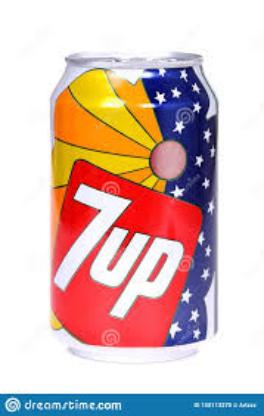Can: (46, 43, 222, 364)
